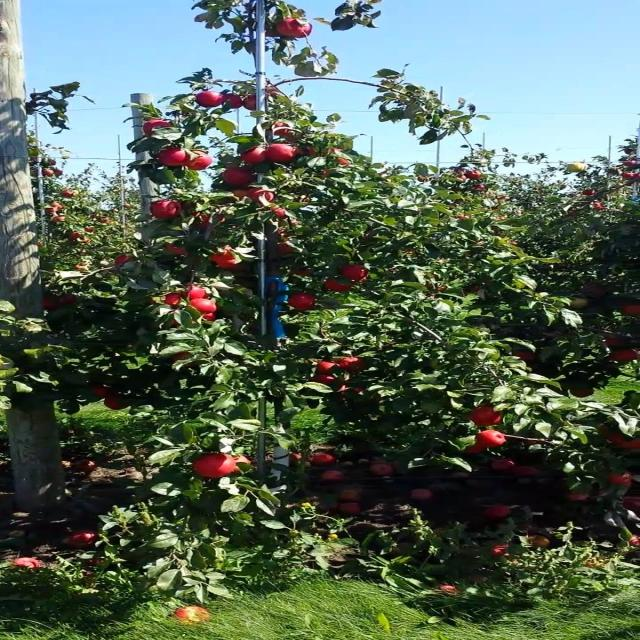apple: (198, 456, 231, 480), (468, 408, 505, 427), (276, 20, 313, 38), (269, 144, 299, 164), (184, 152, 213, 172), (156, 200, 183, 219), (163, 148, 188, 168), (227, 168, 254, 185), (241, 148, 268, 164), (212, 252, 238, 268), (291, 296, 316, 311), (340, 268, 370, 280), (483, 432, 505, 448), (198, 92, 220, 108), (191, 300, 220, 312), (248, 192, 277, 204), (198, 216, 228, 227), (611, 472, 633, 487), (234, 456, 252, 474), (326, 280, 352, 292), (184, 288, 208, 300), (611, 352, 639, 362), (148, 120, 169, 133), (340, 388, 364, 399), (340, 360, 363, 371), (170, 244, 187, 256), (106, 400, 124, 411), (227, 96, 242, 109), (276, 244, 293, 255), (269, 208, 286, 219), (611, 436, 628, 447), (312, 376, 334, 384), (582, 288, 604, 296), (319, 364, 338, 373), (234, 188, 251, 198), (611, 436, 628, 446), (276, 124, 290, 136), (92, 388, 110, 397), (248, 96, 258, 112), (625, 304, 638, 316), (42, 300, 59, 309), (518, 352, 535, 360), (120, 256, 135, 265), (575, 300, 590, 309), (63, 296, 78, 305), (276, 128, 292, 136), (177, 352, 192, 360), (298, 268, 313, 276), (575, 392, 592, 399), (170, 296, 183, 305), (604, 340, 620, 347), (326, 148, 341, 155), (269, 32, 283, 39), (305, 148, 316, 156), (205, 316, 219, 322), (340, 160, 350, 167), (319, 172, 329, 179), (468, 448, 484, 452)
